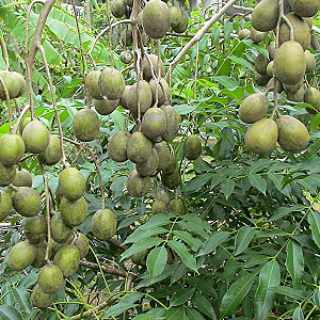coc: (274, 41, 306, 84), (276, 114, 309, 153), (246, 119, 277, 154), (142, 1, 169, 40), (238, 92, 269, 121), (12, 186, 41, 217), (22, 120, 50, 152), (74, 109, 100, 142), (59, 167, 85, 200), (99, 67, 124, 101), (140, 106, 165, 140), (38, 263, 63, 293), (92, 209, 116, 239)
